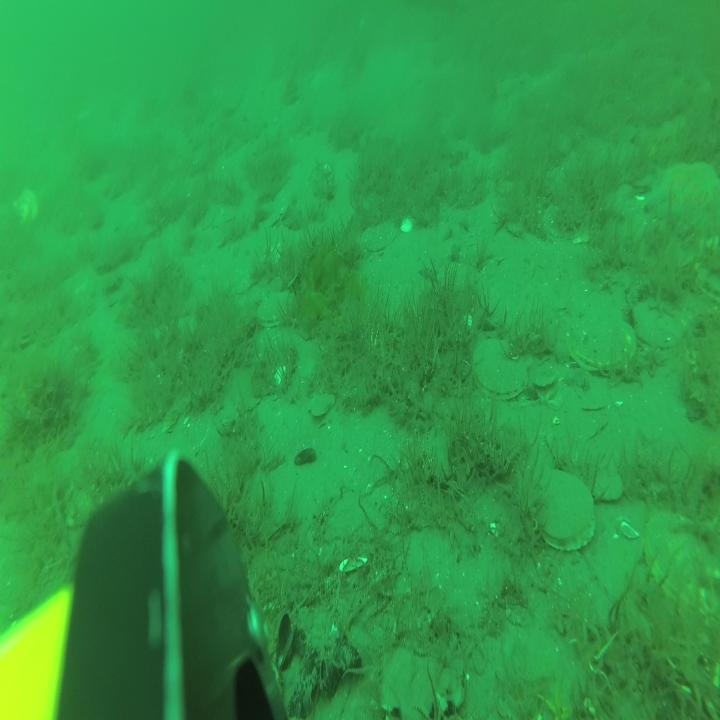scallop: (644, 506, 719, 616), (536, 469, 594, 554), (570, 310, 636, 374), (474, 337, 528, 402), (638, 301, 688, 349), (257, 288, 295, 326), (362, 222, 397, 255), (12, 184, 39, 226), (594, 468, 624, 502), (697, 264, 720, 302), (308, 390, 336, 417), (534, 364, 556, 398)
starfish: (660, 158, 720, 204)
